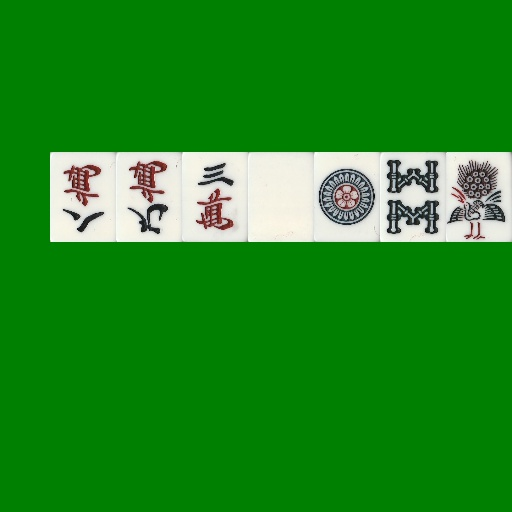1p: (314, 152, 380, 242)
1s: (446, 152, 512, 242)
3m: (182, 152, 248, 242)
8m: (50, 152, 116, 242)
8s: (380, 152, 446, 242)
9m: (116, 152, 182, 242)
white: (248, 152, 314, 242)
